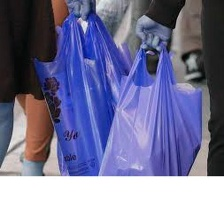plastic_bag: (28, 3, 148, 178), (93, 34, 208, 180)
